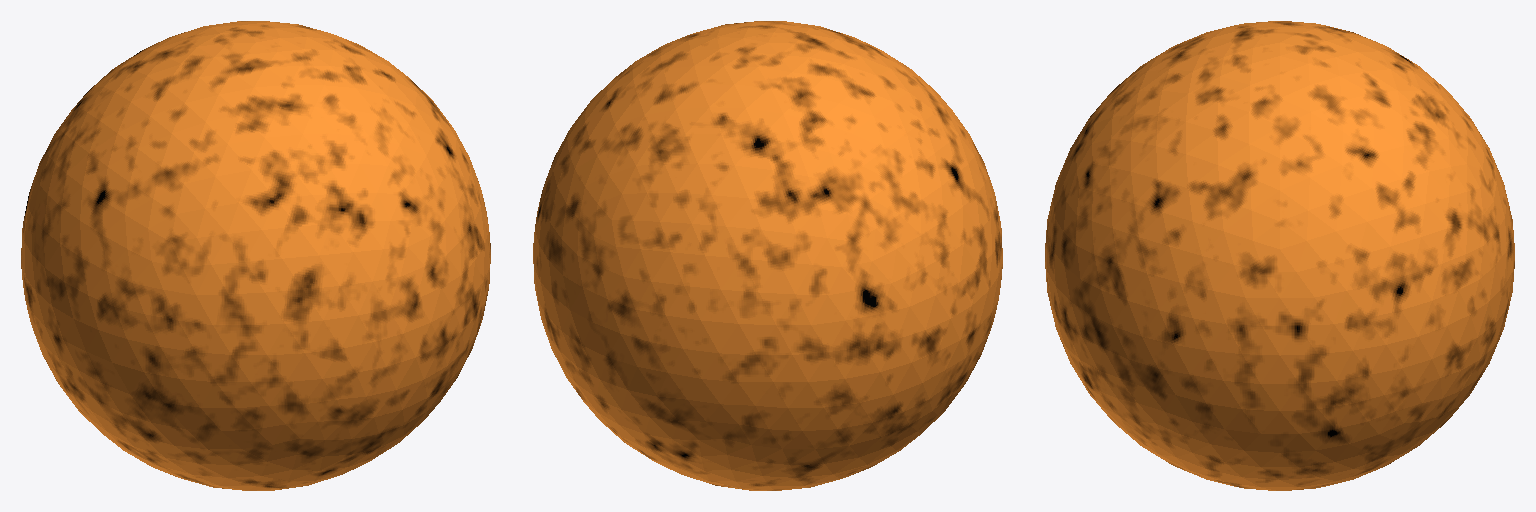
The picture shows the model from 3 angles: view 1: azimuth 30°, elevation 25°; view 2: azimuth 150°, elevation 25°; view 3: azimuth 270°, elevation 25°; orthographic projection.
Visible parts, largest first — view 1: Icosphere; view 2: Icosphere; view 3: Icosphere.
Boxes of the visible parts, <box> form: Icosphere: <box>21,21,490,490</box>; Icosphere: <box>533,21,1002,490</box>; Icosphere: <box>1045,21,1514,490</box>.
Bounding box in the file's own units: 2 × 2 × 2.
1 materials, 1 textured.